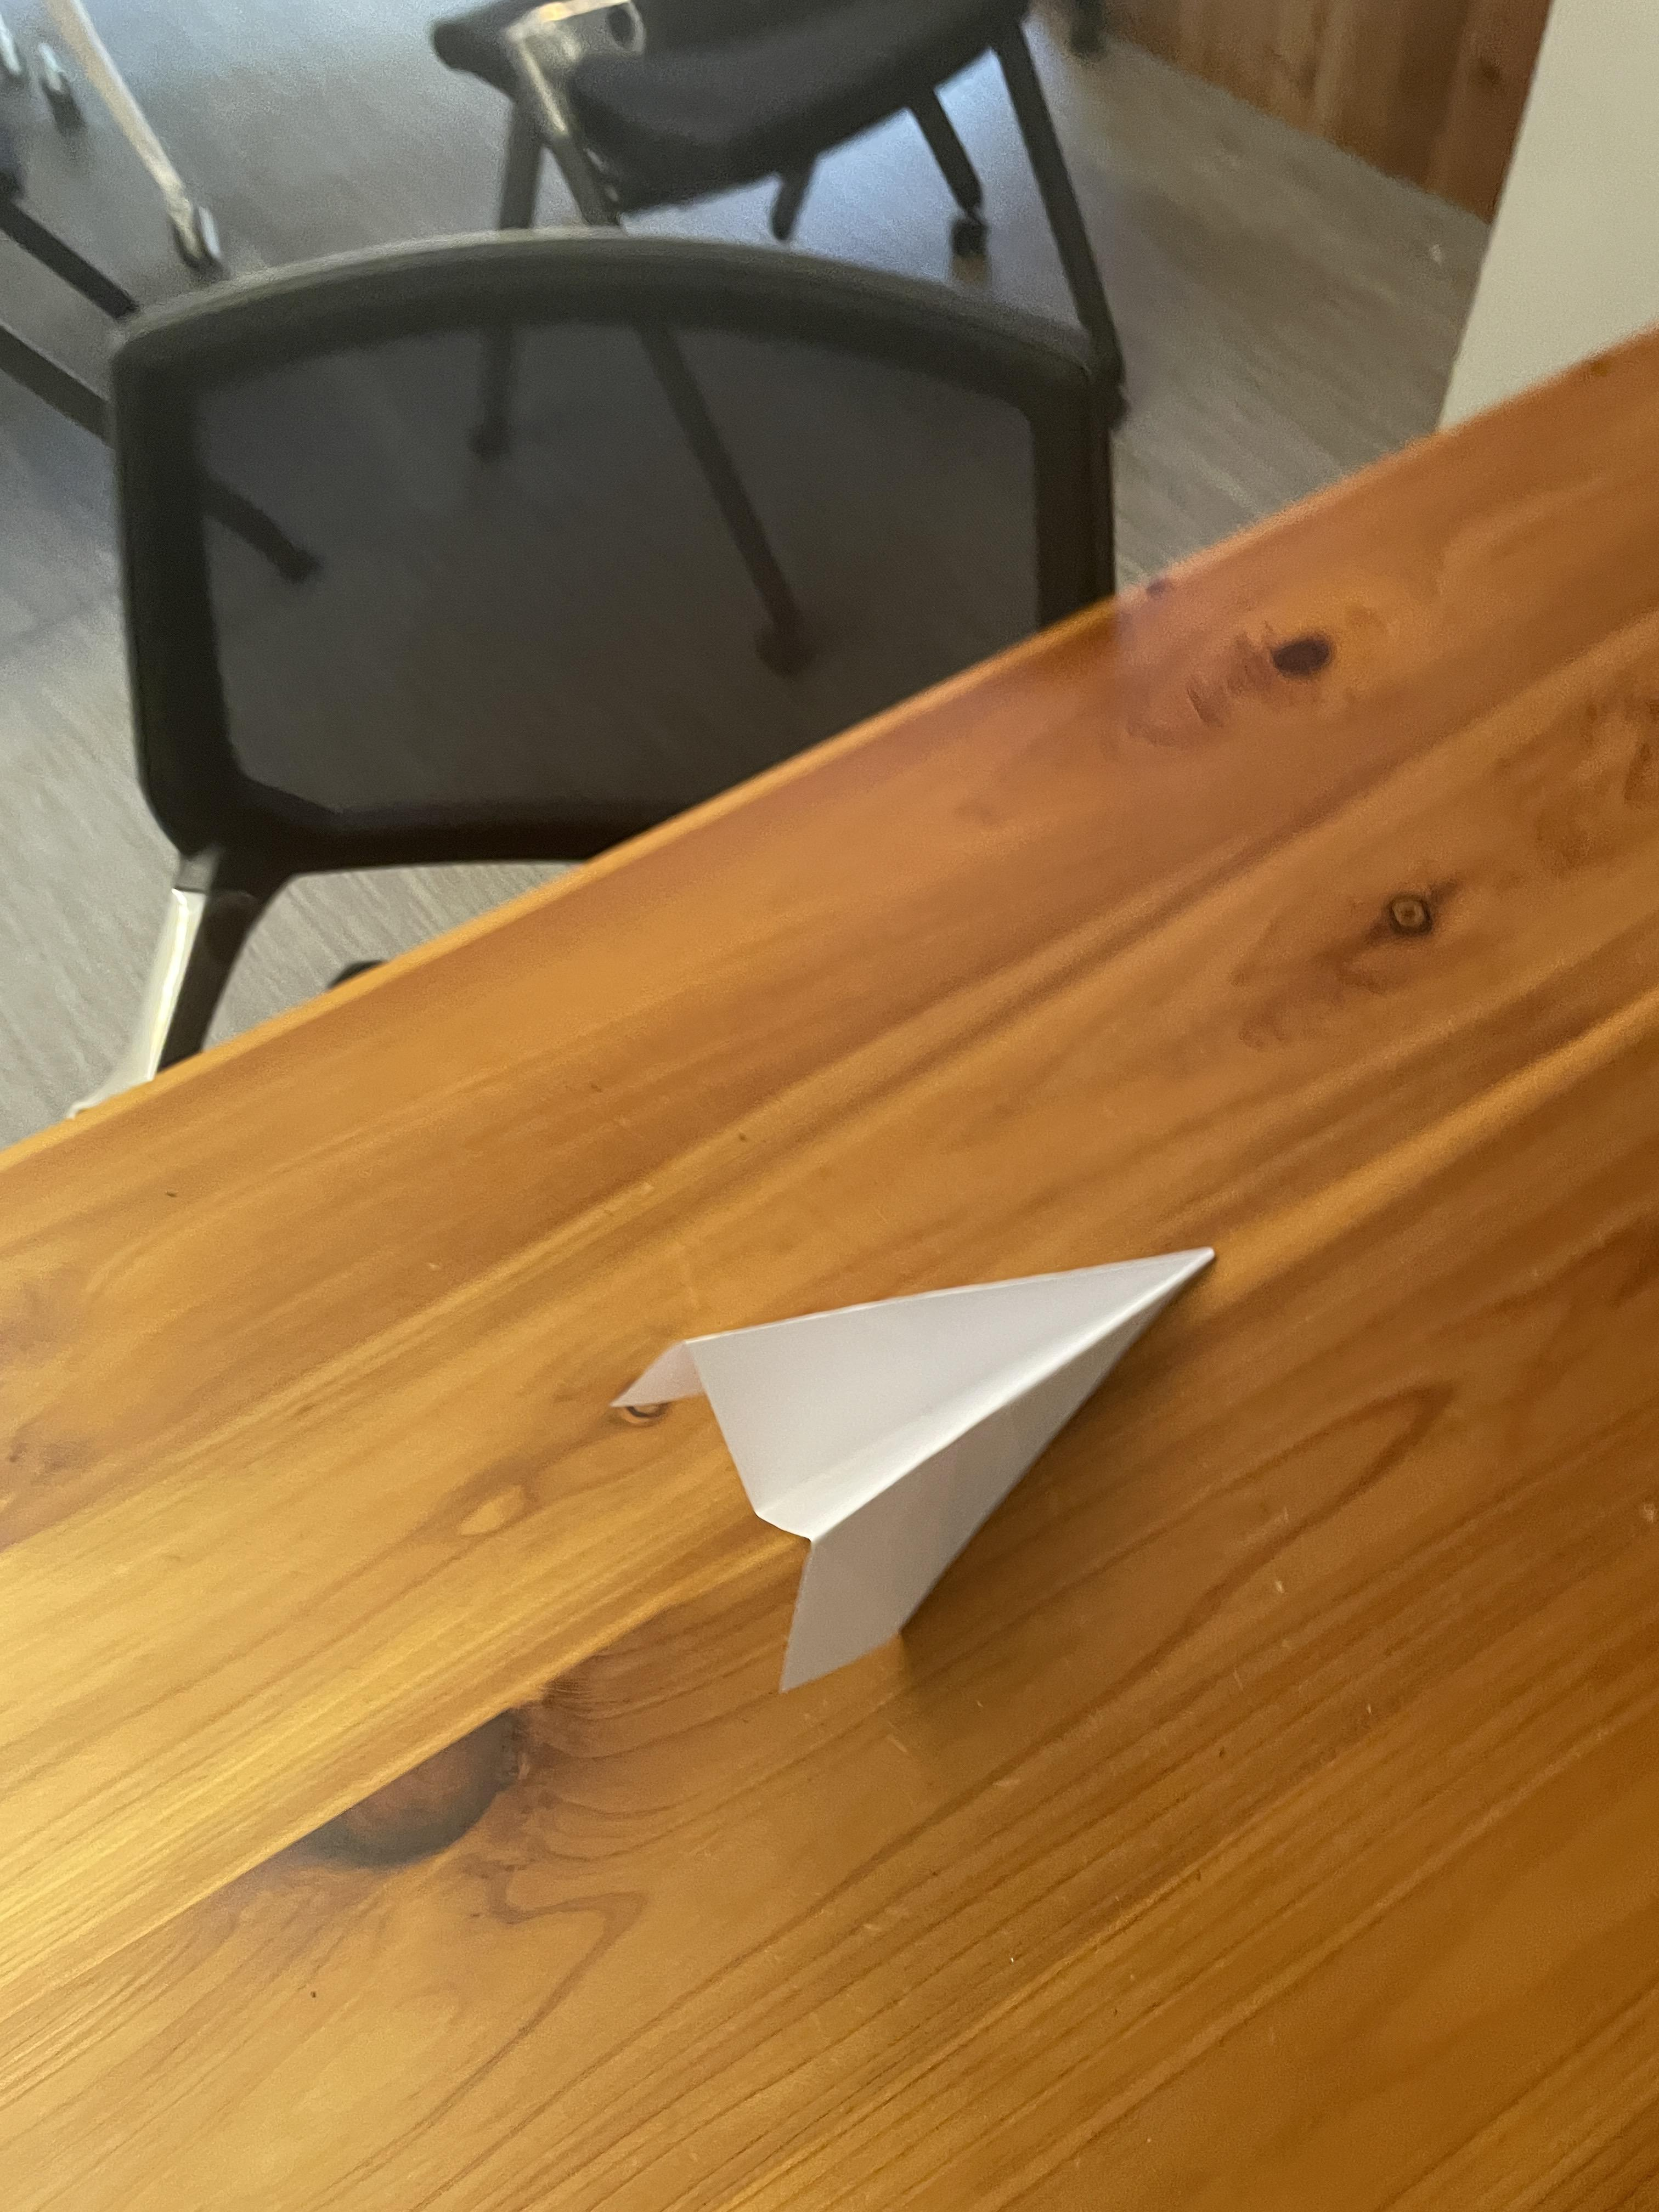shape_3: (565, 1109, 1310, 1757)
